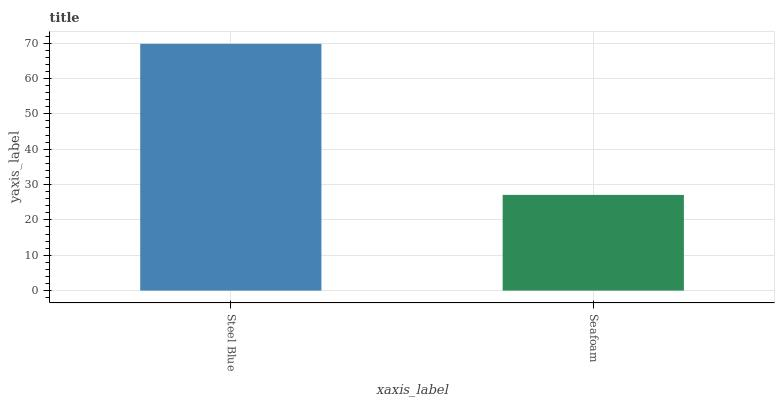axis: (42, 34, 54, 302)
label: (220, 310, 243, 378), (582, 310, 606, 369)
rectangle: (141, 43, 322, 291), (502, 195, 684, 290)
title: (43, 7, 88, 30)
